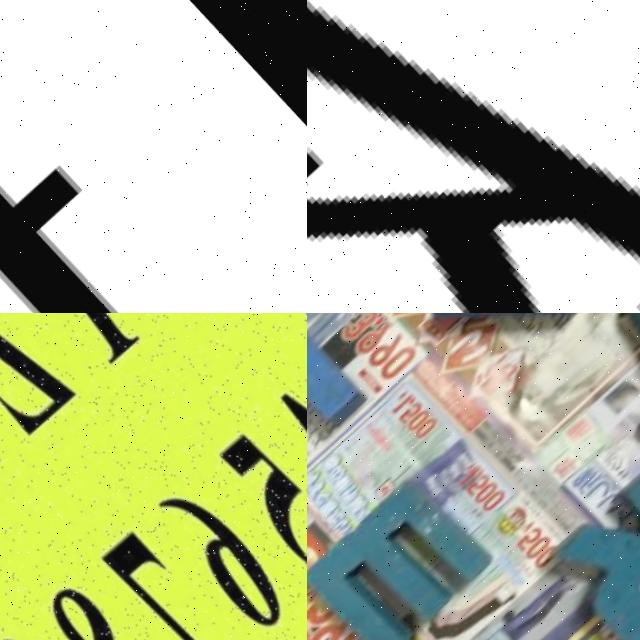4: (236, 353, 307, 550)
5: (176, 400, 307, 602)
6: (110, 448, 307, 640)
7: (49, 495, 269, 640)
8: (0, 545, 193, 640)
F: (0, 0, 307, 313)
K: (307, 0, 640, 313), (521, 459, 640, 640)
M: (307, 469, 496, 640)
P: (307, 313, 362, 487)
V: (383, 313, 631, 388)
